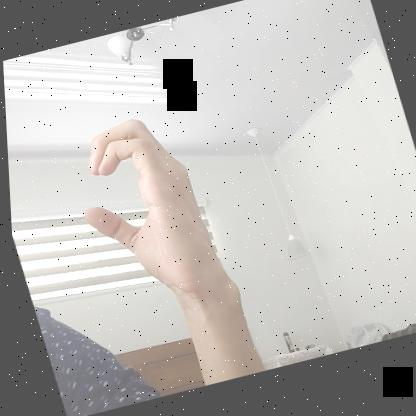C: (57, 106, 226, 310)
